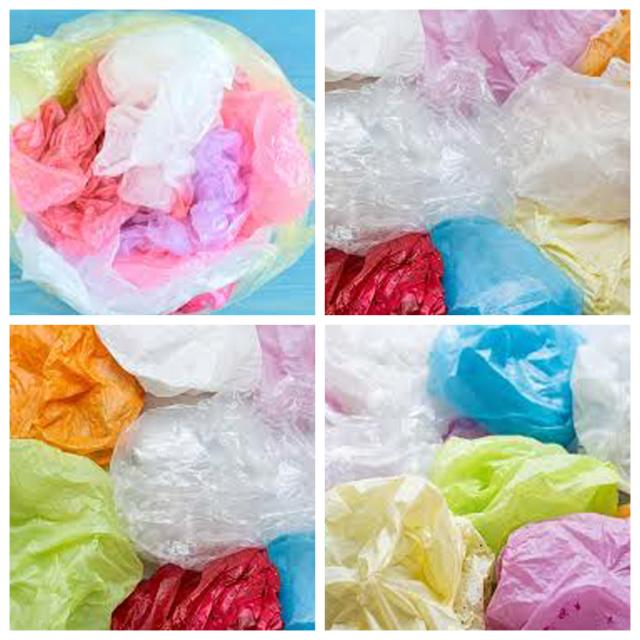Single-layer Plastic: (325, 10, 630, 314), (10, 11, 314, 314), (111, 392, 314, 568), (325, 475, 494, 630), (10, 439, 142, 630), (431, 435, 620, 554), (325, 325, 444, 486), (10, 325, 144, 467), (420, 10, 615, 104), (431, 325, 578, 446), (488, 514, 630, 631), (430, 218, 582, 315), (111, 549, 282, 630), (95, 325, 256, 398), (325, 232, 446, 315), (572, 325, 630, 492), (268, 532, 315, 629)
